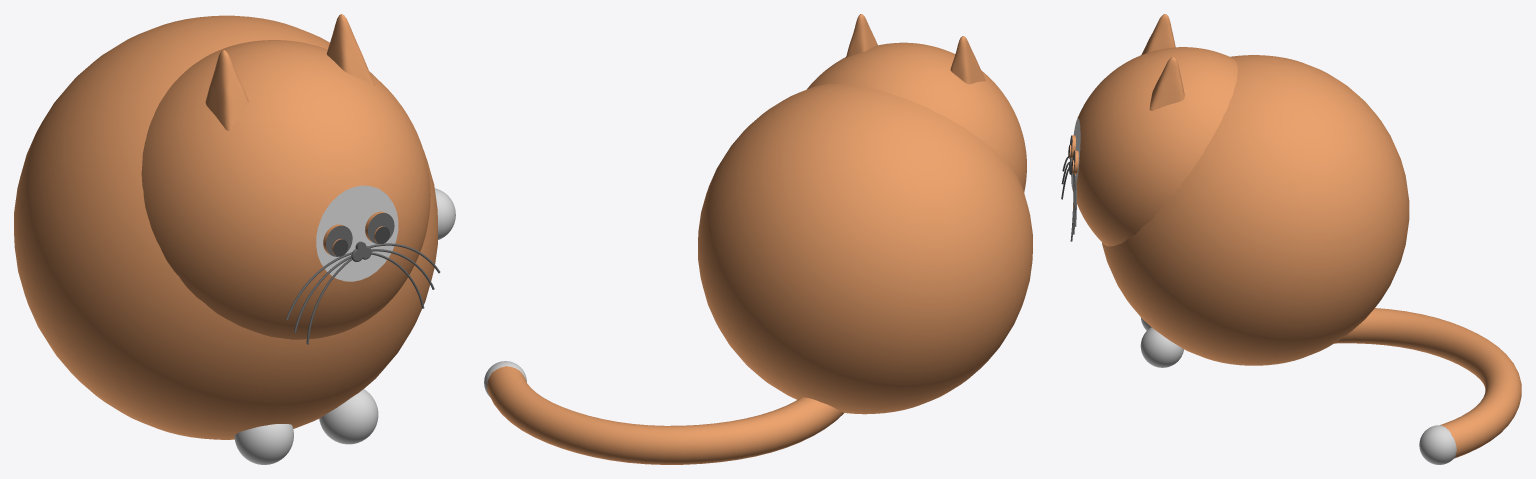
The model's file is cat.fbx.
3 renders of one model, left to right at view 1: azimuth 30°, elevation 25°; view 2: azimuth 150°, elevation 25°; view 3: azimuth 270°, elevation 25°, orthographic. The views are drawn at different scales.
Visible parts, largest first — view 1: fat cat obj.001; view 2: fat cat obj.001; view 3: fat cat obj.001.
Part boxes in pixels (x1,y1,x2,y2): fat cat obj.001: (14, 14, 455, 464); fat cat obj.001: (484, 14, 1032, 464); fat cat obj.001: (1061, 14, 1521, 464).
Bounding box in the file's own units: 266 × 205 × 270.
